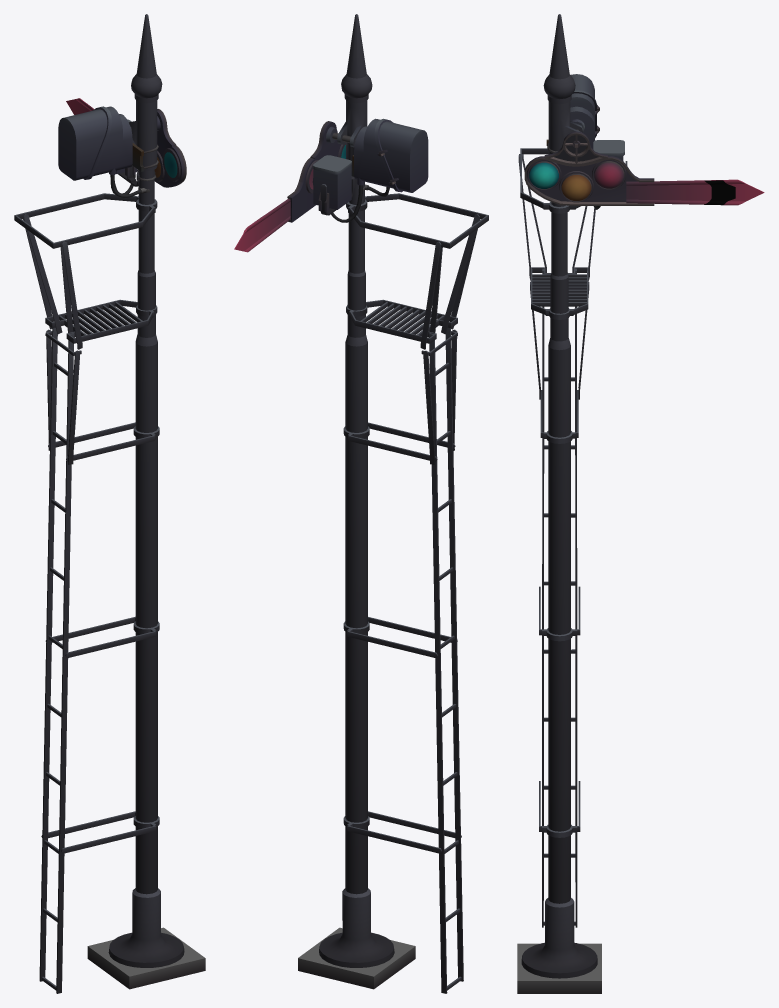
The picture shows the model from 3 angles, left to right: view 1: azimuth 30°, elevation 25°; view 2: azimuth 150°, elevation 25°; view 3: azimuth 270°, elevation 25°; orthographic projection.
Visible parts, largest first — view 1: Semaphore_Base_Single_Master_MT; view 2: Semaphore_Base_Single_Master_MT; view 3: Semaphore_Base_Single_Master_MT, Semaphore_Base_Single_Decals_MT.
Part boxes in pixels (bbox=[...]): Semaphore_Base_Single_Master_MT: bbox=[14, 14, 205, 993]; Semaphore_Base_Single_Master_MT: bbox=[234, 14, 488, 993]; Semaphore_Base_Single_Master_MT: bbox=[517, 14, 764, 993]; Semaphore_Base_Single_Decals_MT: bbox=[704, 180, 735, 205].
Size of the model in its own units: 2.65 by 15.98 by 3.72.
